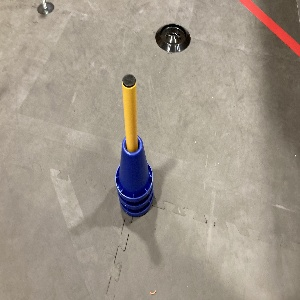Blue_3: (114, 135, 152, 216)
